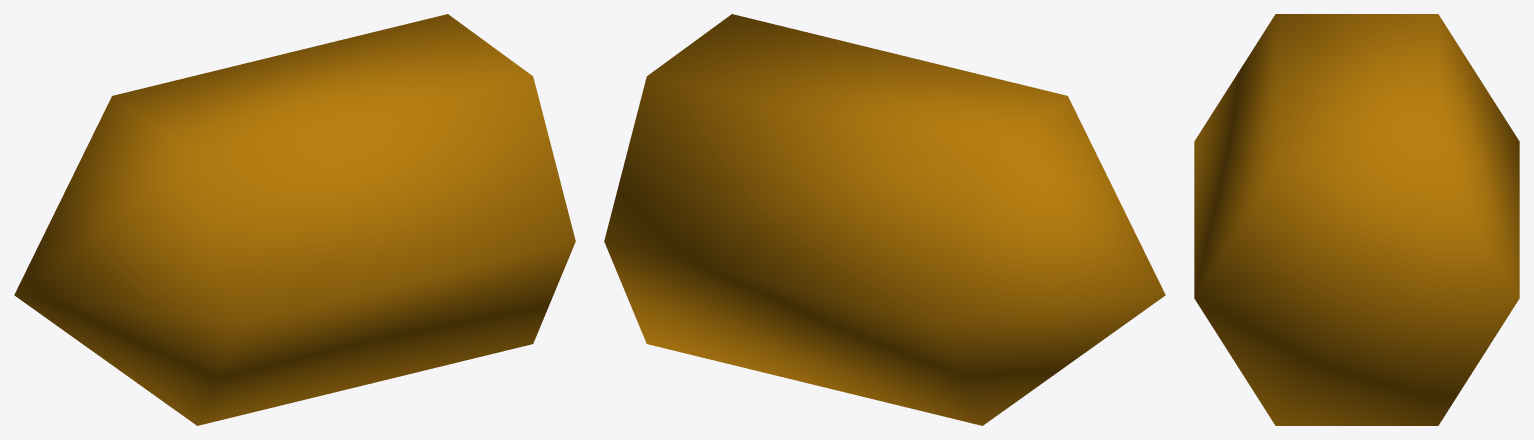
The model's file is Bullet.fbx.
3 views of the same model, side by side, from view 1: azimuth 30°, elevation 25°; view 2: azimuth 150°, elevation 25°; view 3: azimuth 270°, elevation 25° (orthographic). The views are drawn at different scales.
Parts seen in each view (by area): view 1: Bullet; view 2: Bullet; view 3: Bullet.
Part boxes in pixels (x1,y1,x2,y2): Bullet: (14,14,575,425); Bullet: (604,14,1165,425); Bullet: (1194,14,1519,425).
Size of the model in its own units: 2.79 by 1.5 by 1.73.
